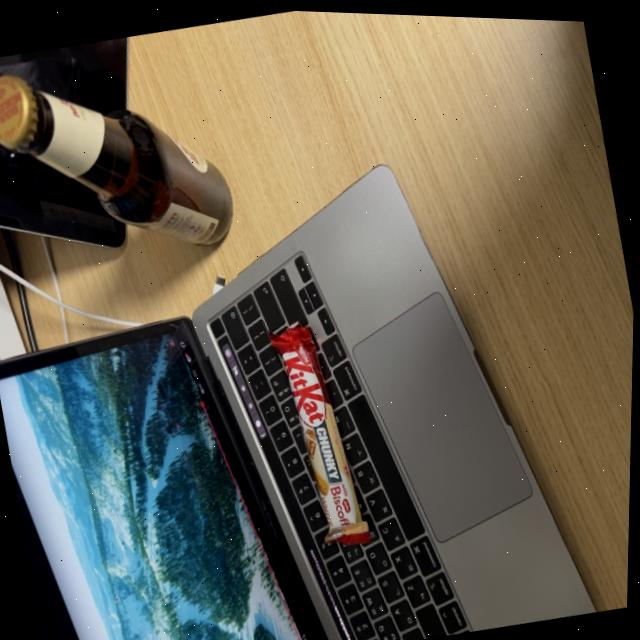beer: (0, 31, 245, 284)
chocolate: (260, 309, 382, 557)
